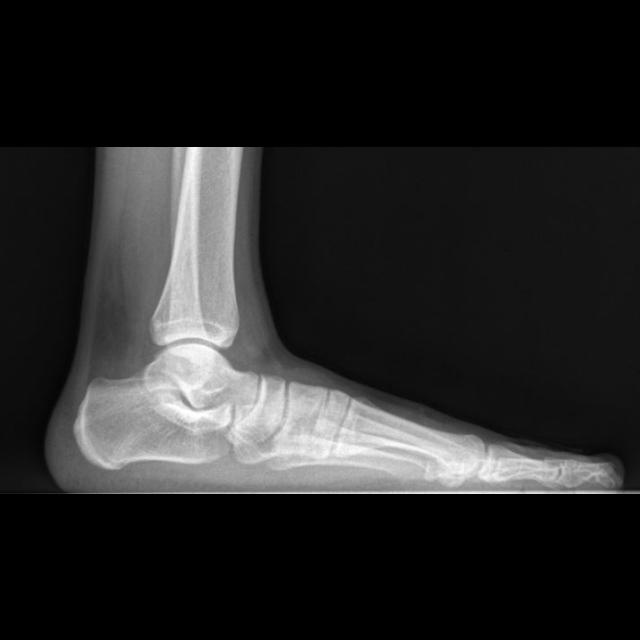a: (72, 373, 233, 468)
b: (239, 370, 286, 439)
c: (334, 396, 483, 473)
